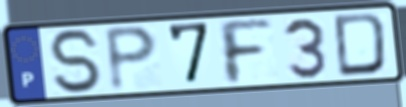3: (280, 14, 330, 81)
7: (164, 21, 211, 88)
D: (331, 11, 390, 79)
F: (214, 18, 276, 87)
P: (102, 23, 161, 94)
S: (45, 27, 107, 96)
